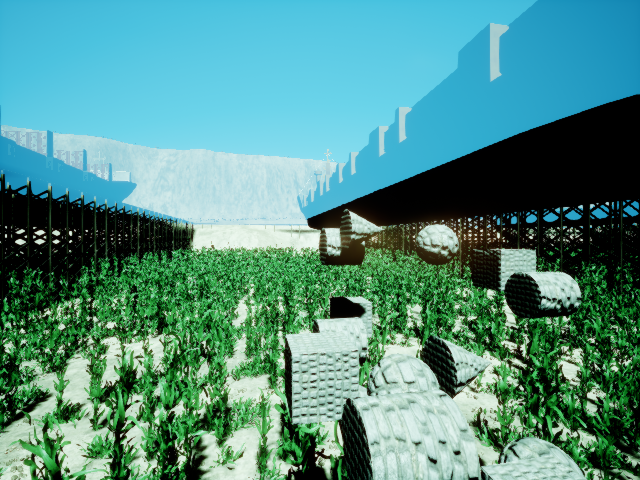Cone: (409, 328, 504, 397), (330, 207, 391, 256)
Cylinder: (501, 256, 597, 336)
Sphere: (409, 216, 467, 268)
